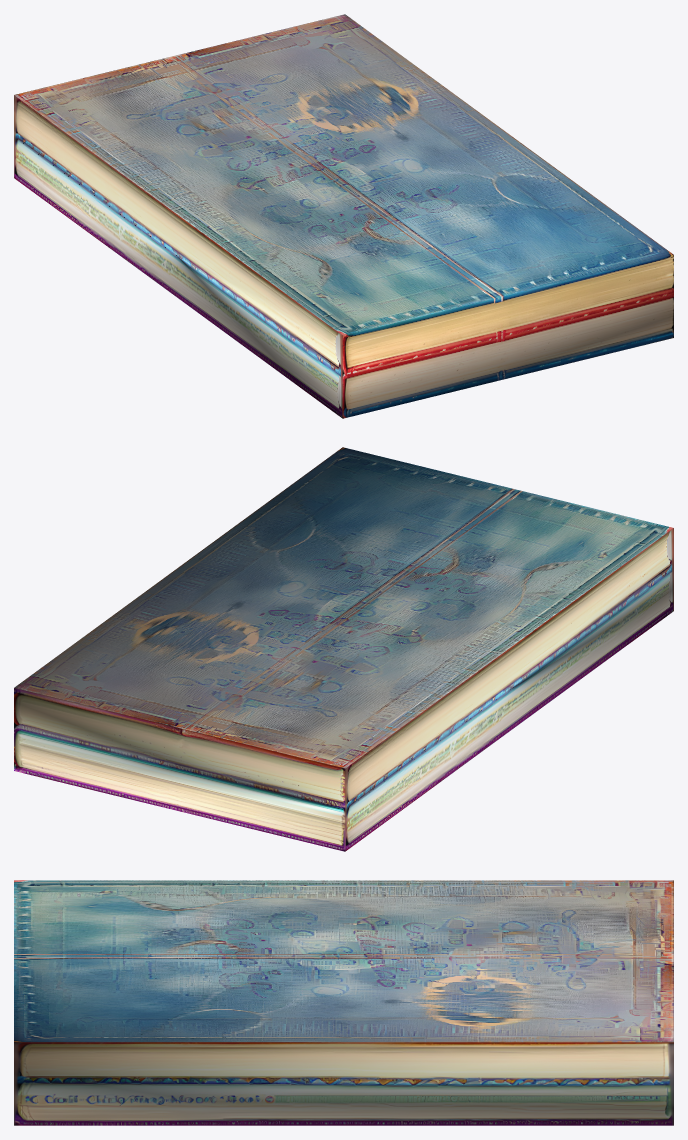
Rendered from book1.glb.
3 views of the same model, one above another, from view 1: azimuth 30°, elevation 25°; view 2: azimuth 150°, elevation 25°; view 3: azimuth 270°, elevation 25° (orthographic).
Size of the model in its own units: 3.39 by 0.8133 by 5.83.
Materials: 1 (1 with a texture image).
